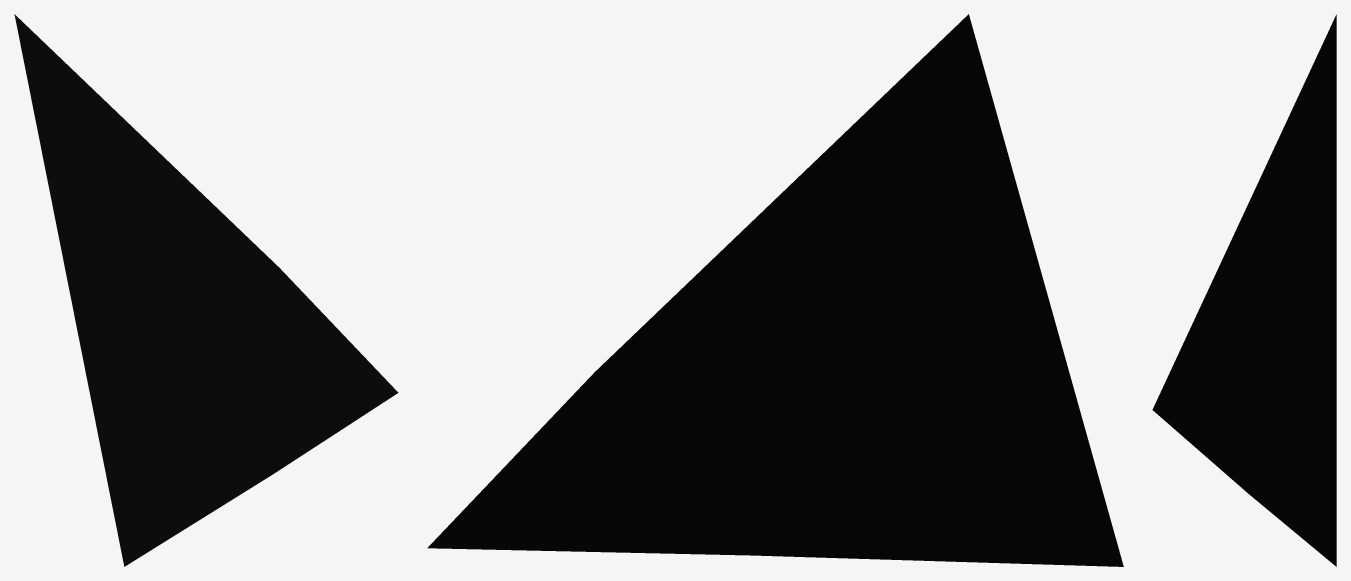
3 views of the same model, side by side, from view 1: azimuth 30°, elevation 25°; view 2: azimuth 150°, elevation 25°; view 3: azimuth 270°, elevation 25° (orthographic). The views are drawn at different scales.
Size of the model in its own units: 0.0912 by 0.1072 by 0.0452.
Materials: 1 (1 with a texture image).
